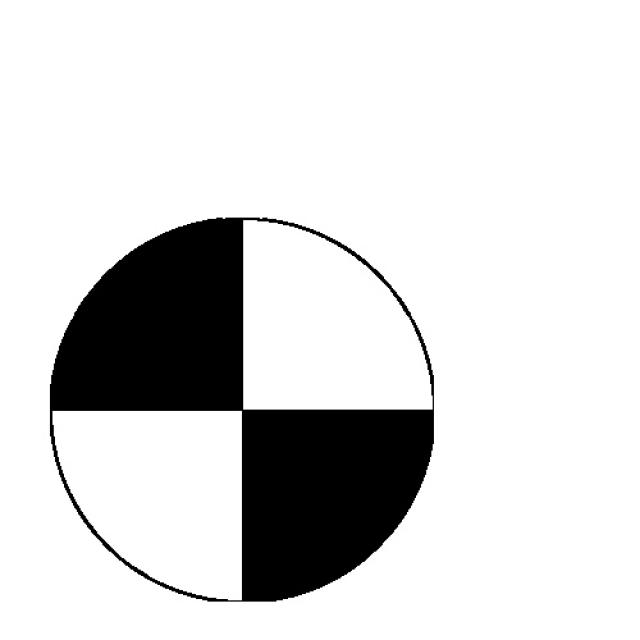Marcadores: (51, 216, 436, 603)
